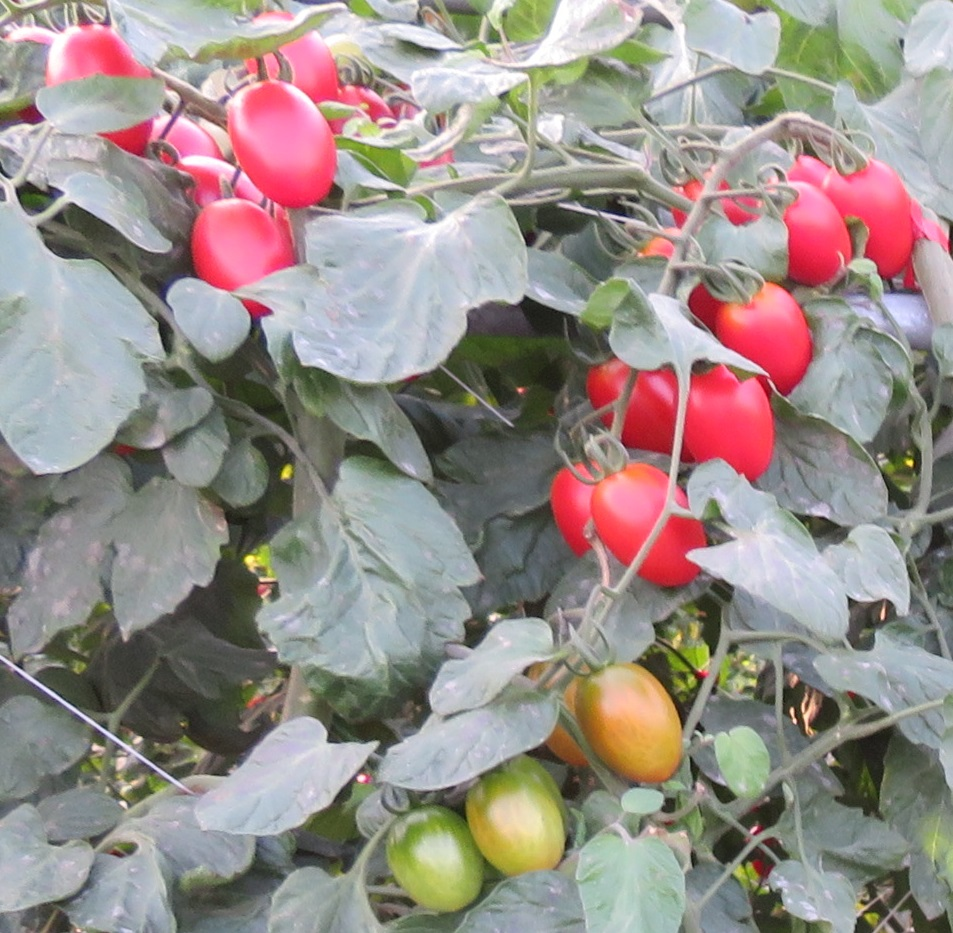green: (459, 768, 584, 876), (375, 814, 488, 911)
orange: (570, 658, 689, 789)
red: (218, 70, 353, 215), (590, 460, 714, 589), (43, 22, 156, 157), (815, 143, 911, 285), (717, 278, 820, 402), (192, 199, 298, 319), (683, 360, 774, 491), (583, 352, 685, 456), (242, 9, 340, 113), (768, 181, 853, 291)
